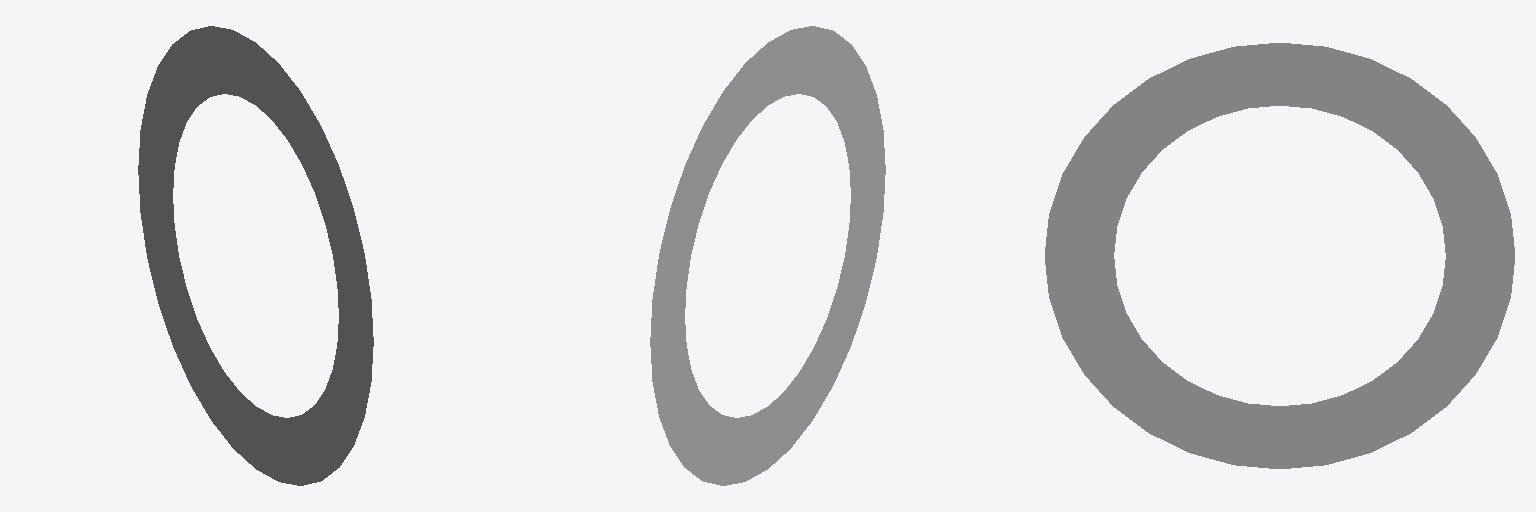
The model's file is verticalRing.obj.
3 renders of one model, left to right at view 1: azimuth 30°, elevation 25°; view 2: azimuth 150°, elevation 25°; view 3: azimuth 270°, elevation 25°, orthographic.
Visible parts, largest first — view 1: primitiveRing; view 2: primitiveRing; view 3: primitiveRing.
Part boxes in pixels (left/top/right/bottom): primitiveRing: left=138, top=26, right=373, bottom=485; primitiveRing: left=650, top=26, right=885, bottom=485; primitiveRing: left=1045, top=43, right=1514, bottom=468.
Size of the model in its own units: 0 by 6.4 by 6.4.